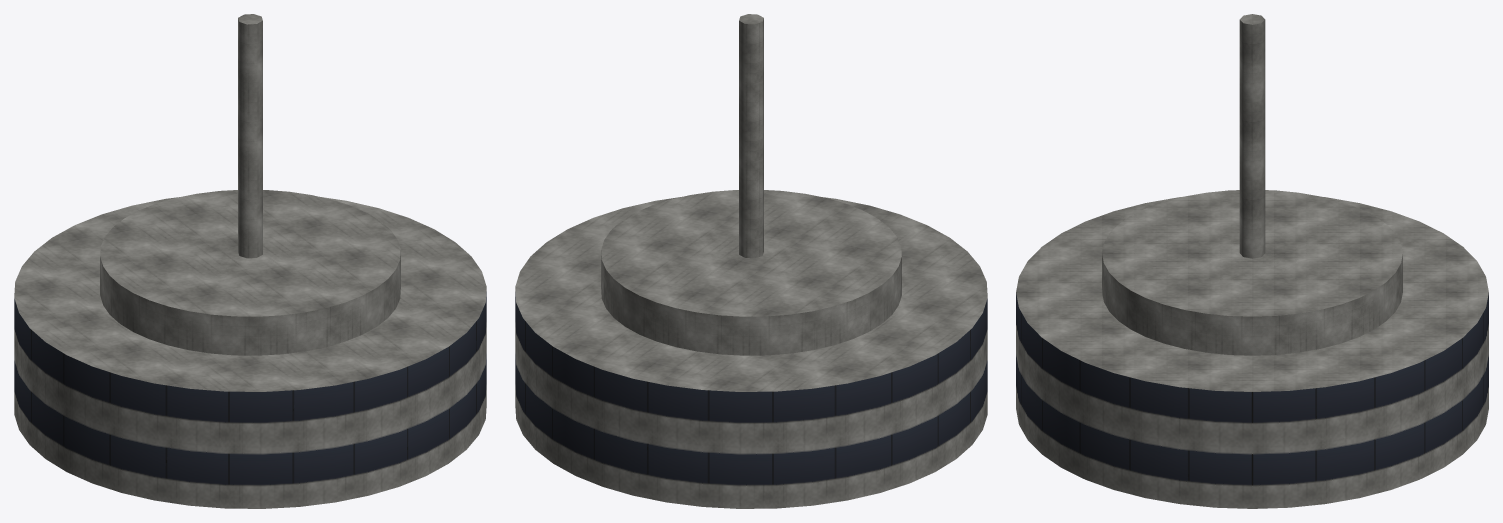
Rendered from genex_restaurant.obj.
The picture shows the model from 3 angles, left to right: view 1: azimuth 30°, elevation 25°; view 2: azimuth 150°, elevation 25°; view 3: azimuth 270°, elevation 25°; orthographic projection.
Parts seen in each view (by area): view 1: Restaurant_FacadeRibbon, Roof_Concrete, Restaurant_Concrete, Mast_Concrete; view 2: Restaurant_FacadeRibbon, Roof_Concrete, Restaurant_Concrete, Mast_Concrete; view 3: Restaurant_FacadeRibbon, Roof_Concrete, Restaurant_Concrete, Mast_Concrete.
Boxes of the visible parts, x1,y1,x2,y2 form: Restaurant_FacadeRibbon: (14, 291, 486, 508); Roof_Concrete: (100, 190, 400, 355); Restaurant_Concrete: (14, 196, 486, 391); Mast_Concrete: (238, 14, 262, 258); Restaurant_FacadeRibbon: (515, 291, 987, 508); Roof_Concrete: (601, 190, 901, 355); Restaurant_Concrete: (515, 196, 987, 391); Mast_Concrete: (739, 14, 763, 258); Restaurant_FacadeRibbon: (1016, 293, 1488, 508); Roof_Concrete: (1102, 190, 1402, 355); Restaurant_Concrete: (1016, 197, 1488, 391); Mast_Concrete: (1239, 14, 1265, 258).
Bounding box in the file's own units: 22 × 20 × 22.
Materials: 2 (2 with a texture image).
